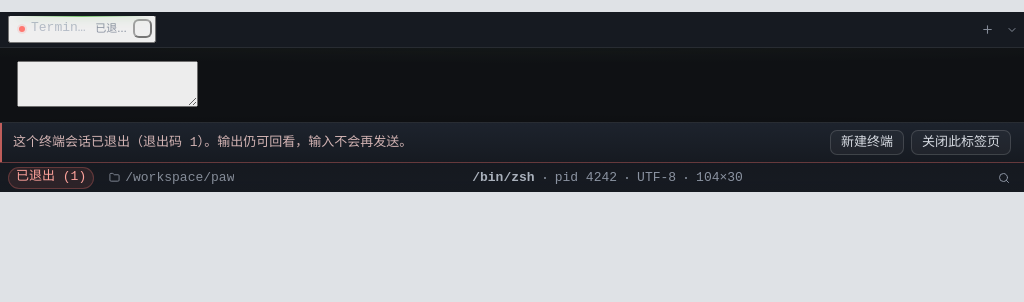
Scenario: PawOsTerminalApp › keeps an ended session readable, states the exit truthfully, and never reruns or forwards input
Expected: the 1st icon is shown, [19, 26, 25, 32]
Expected: the text "已退出 1" is shown, [95, 21, 130, 36]
Typed input is refused locally with a dismissible explanation.
Type "x" into the text box named "终端输入" at x=108, y=84, box [17, 61, 198, 107]
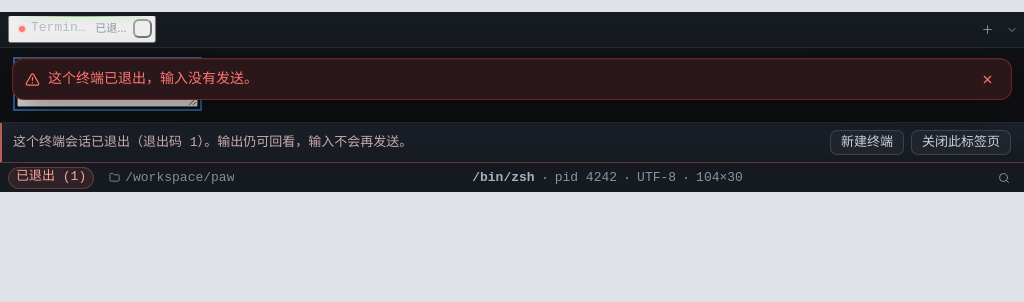
Expected: the message "这个终端已退出，输入没有发送。" is shown, [12, 58, 1012, 100]
Click the button named "关闭错误提示" at x=987, y=79, box [975, 67, 999, 91]
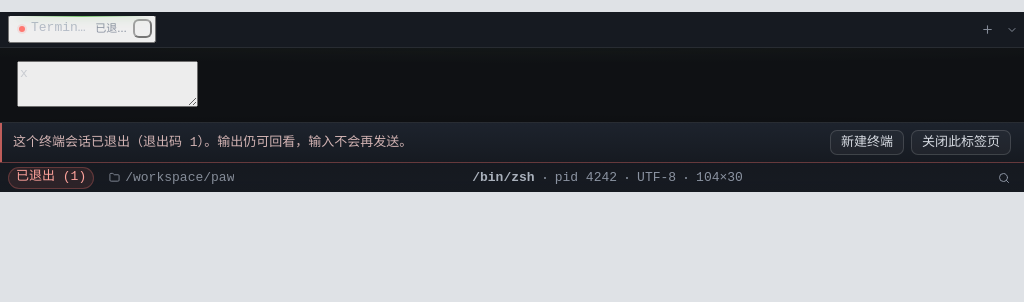
Expected: the message "这个终端已退出，输入没有发送。" is gone
The notice can end the tab identity explicitly.
Click the button "关闭此标签页" at x=961, y=143, box [911, 130, 1011, 155]
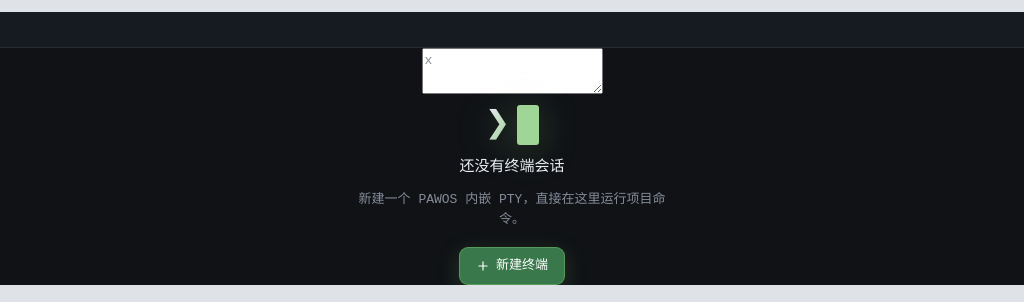
Expected: the text "还没有终端会话" is shown, [460, 156, 564, 180]
